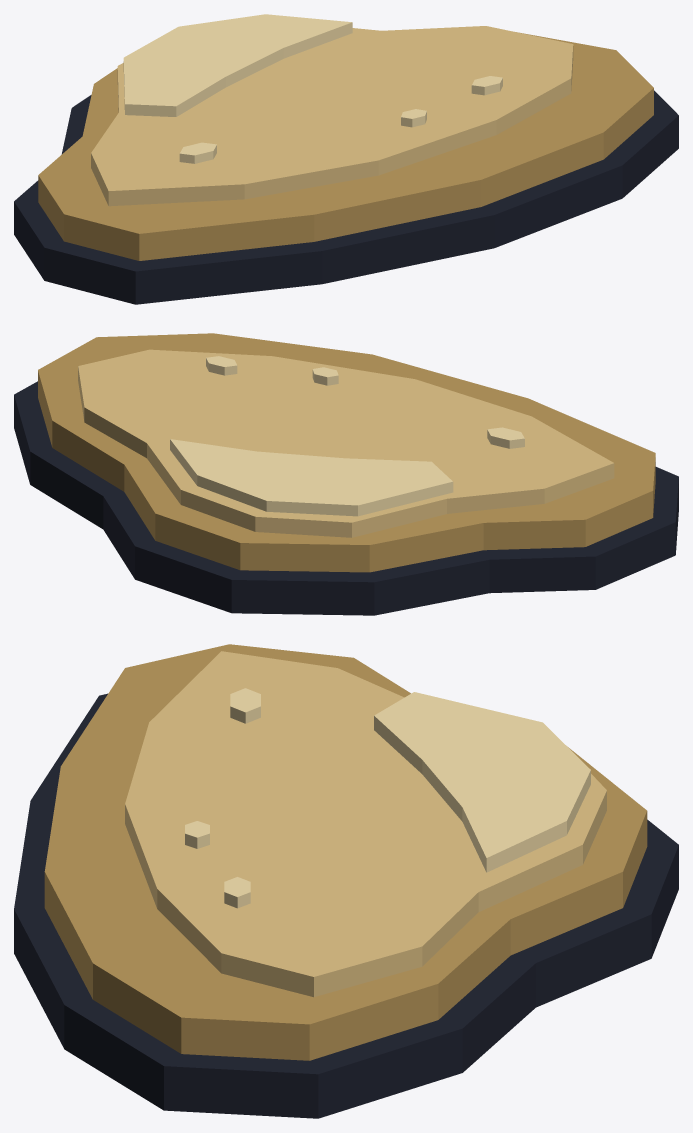
Rendered from sand.fbx.
The picture shows the model from 3 angles, top to bottom: view 1: azimuth 30°, elevation 25°; view 2: azimuth 150°, elevation 25°; view 3: azimuth 270°, elevation 25°; orthographic projection. The views are drawn at different scales.
Parts seen in each view (by area): view 1: sand; view 2: sand; view 3: sand.
Part boxes in pixels (left/top/right/bottom): sand: left=14, top=14, right=678, bottom=304; sand: left=14, top=333, right=678, bottom=615; sand: left=14, top=644, right=678, bottom=1118.
Bounding box in the file's own units: 1.08 × 0.146 × 0.745.
Materials: 1 (1 with a texture image).
